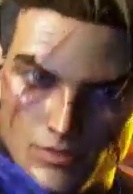kevin: (0, 16, 132, 184)
